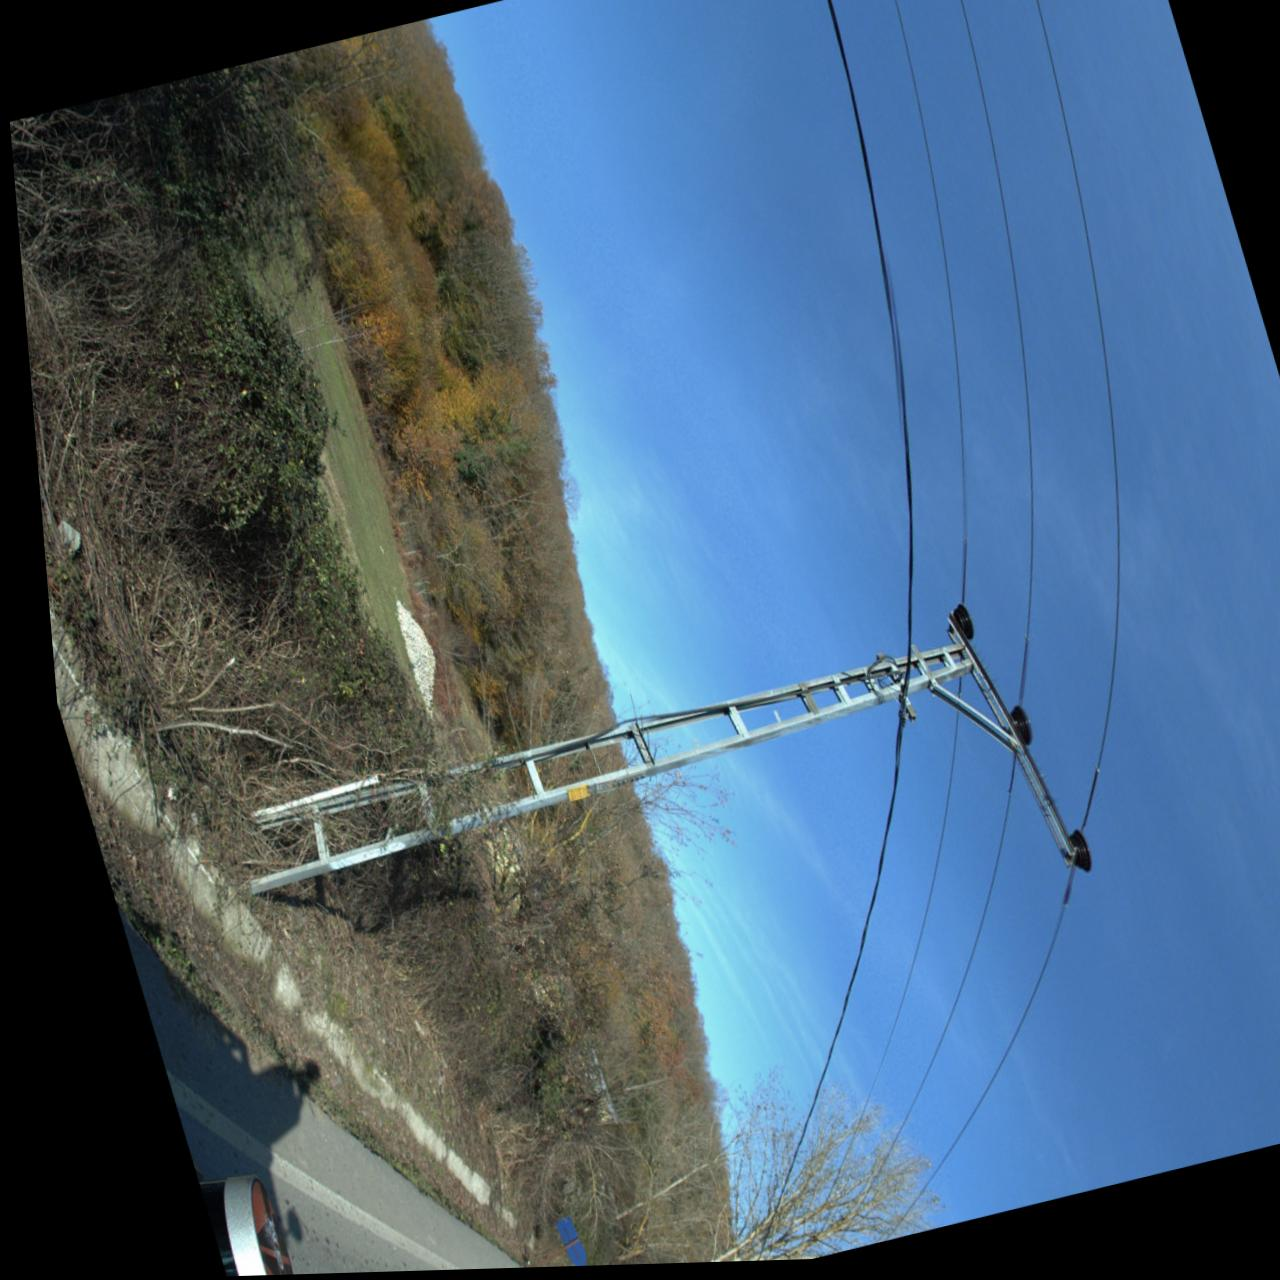Utility Pole Information Plate: (552, 787, 577, 806)
